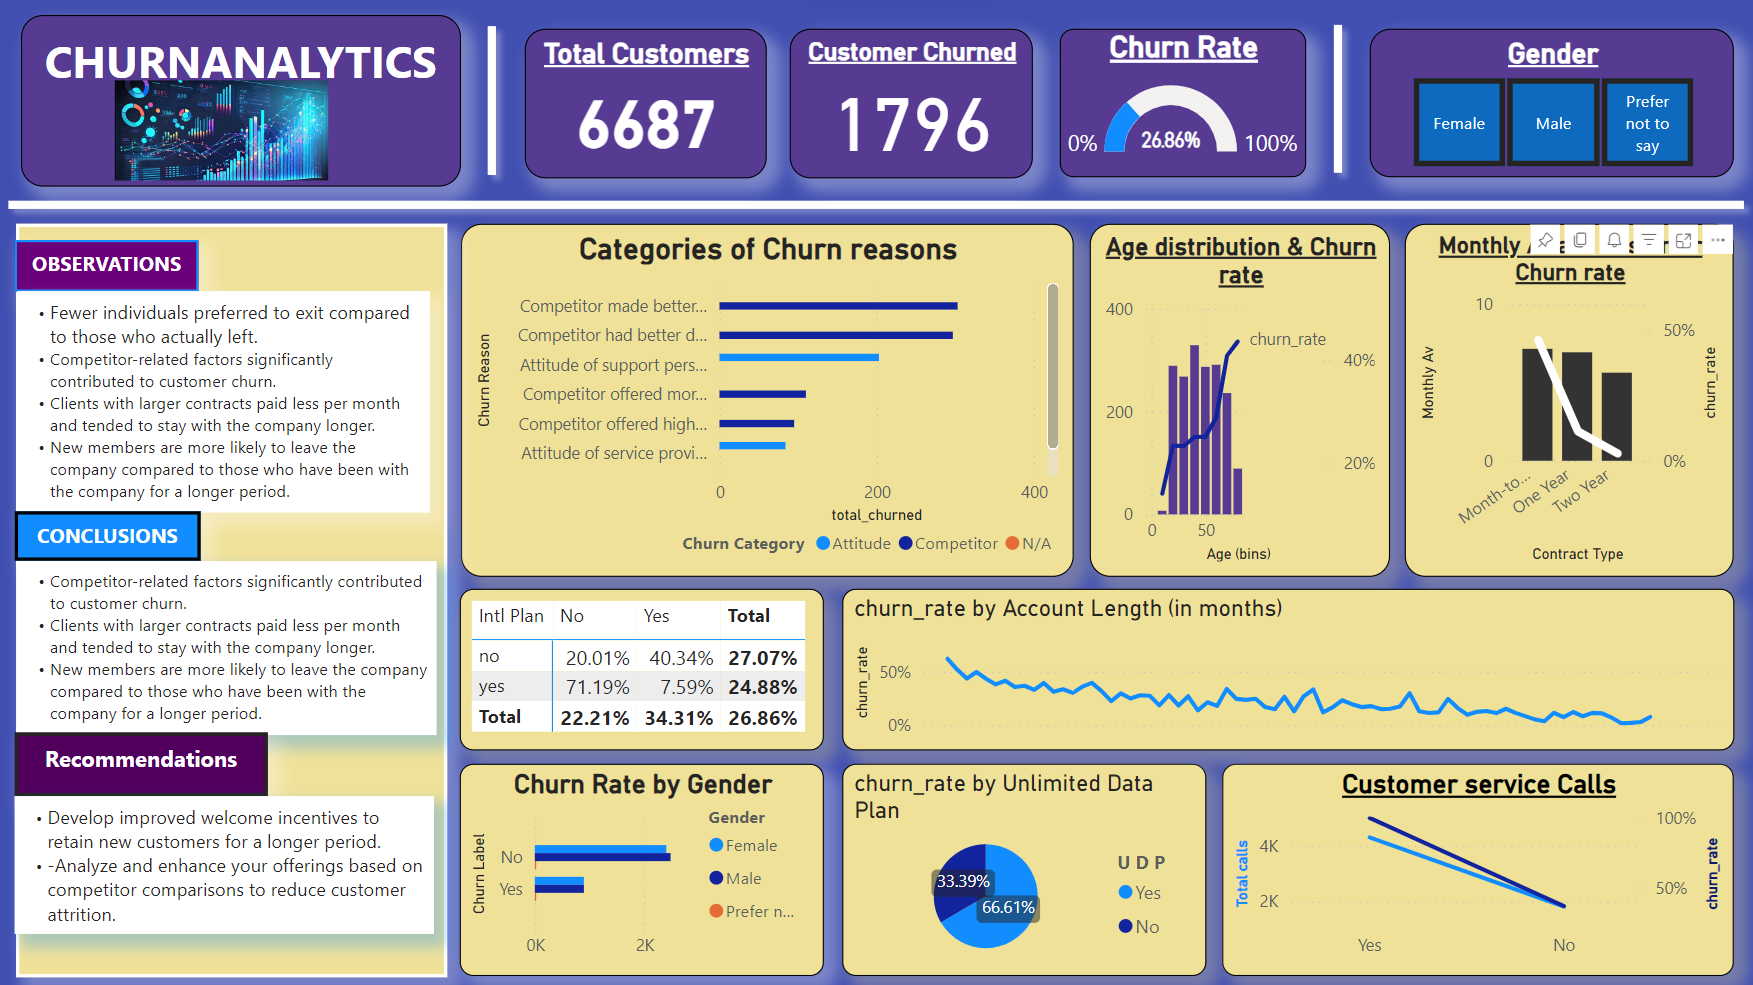

What the dashboard file says about the page in this screenshot:
{"tool":"powerbi","page":{"name":"Dashboard","canvas":[1280,720],"ordinal":1},"visuals":[{"type":"textbox","box":[17.8,11,319.7,124.9],"z":0},{"type":"shape","box":[0,74.4,1280.2,148.8],"z":1000},{"type":"shape","box":[337.6,9.6,46.7,126.2],"z":2000},{"type":"card","title":"Total Customers","fields":{"Values":["Vertex_Measures.Total_customers"]},"box":[384.2,20.6,175.6,108.4],"z":3000},{"type":"image","box":[0,53.5,328,82.3],"z":4000},{"type":"card","title":"Customer Churned","fields":{"Values":["Vertex_Measures.total_churned"]},"box":[577.7,20.6,177,108.4],"z":5000},{"type":"slicer","title":"Gender","fields":{"Values":["Table_1.Gender"]},"box":[998.8,20.9,265.1,108.1],"z":6000},{"type":"clusteredBarChart","title":"Categories of Churn reasons","fields":{"Category":["Table_1.Churn Reason"],"Y":["Vertex_Measures.total_churned"],"Series":["Table_1.Churn Category"]},"box":[338.4,162.8,445.4,257],"z":7000},{"type":"lineClusteredColumnComboChart","title":"Age distribution & Churn rate","fields":{"Category":["Table_1.Age (bins)"],"Y":["Vertex_Measures.total_churned"],"Y2":["Vertex_Measures.churn_rate"]},"box":[795.4,162.8,218.6,257],"z":8000},{"type":"lineClusteredColumnComboChart","title":"Monthly Av and Customer Churn rate","fields":{"Category":["Table_1.Contract Type"],"Y":["Avg(Table_1.Avg Monthly GB Download)"],"Y2":["Vertex_Measures.churn_rate"]},"box":[1024.4,162.8,239.5,257],"z":9000},{"type":"textbox","box":[14.5,162.9,313.7,547.7],"z":10000},{"type":"textbox","box":[14,174.4,133.7,37.2],"z":11000},{"type":"textbox","box":[15.1,211.6,300,160.5],"z":12000},{"type":"textbox","box":[14,372.1,134.9,36],"z":13000},{"type":"textbox","box":[15.1,408.1,304.7,126.7],"z":14000},{"type":"pivotTable","fields":{"Rows":["Table_1.Intl Plan"],"Values":["Vertex_Measures.churn_rate"],"Columns":["Table_1.Intl Active"]},"box":[337.2,427.9,265.1,117.4],"z":15000},{"type":"gauge","title":"Churn Rate","fields":{"Y":["Vertex_Measures.churn_rate"]},"box":[773.3,20.9,179.1,108.1],"z":16000},{"type":"clusteredBarChart","title":"Churn Rate by Gender","fields":{"Category":["Table_1.Churn Label"],"Series":["Table_1.Gender"],"Y":["Vertex_Measures.Total_customers"]},"box":[337.2,555.8,265.1,154.7],"z":17000},{"type":"shape","box":[952.3,9.3,46.5,125.6],"z":18000},{"type":"lineChart","title":"Customer service Calls","fields":{"Category":["Table_1.Churn Label"],"Y":["Sum(Table_1.Customer Service Calls)"],"Y2":["Vertex_Measures.churn_rate"]},"box":[891.9,555.8,372.1,154.7],"z":19000},{"type":"pieChart","fields":{"Category":["Table_1.Unlimited Data Plan"],"Y":["Vertex_Measures.churn_rate"]},"box":[615.1,555.8,265.1,154.7],"z":20000},{"type":"lineChart","fields":{"Category":["Table_1.Account Length (in months)"],"Y":["Vertex_Measures.churn_rate"]},"box":[615.1,427.9,648.8,117.4],"z":21000},{"type":"textbox","box":[14,532.6,183.7,46.5],"z":22000},{"type":"textbox","box":[14,579.1,304.7,100],"z":23000}]}

Visuals, with their boxes in screenshot pixels (x1, y1, x2, y2), scaled from the page's 1280x720 canvas onto the 1753x985 screenshot:
textbox: [24,15,462,186]
shape: [0,102,1752,305]
shape: [462,13,526,186]
"Total Customers" card: [526,28,767,176]
image: [0,73,449,186]
"Customer Churned" card: [791,28,1034,176]
"Gender" slicer: [1368,29,1731,176]
"Categories of Churn reasons" clusteredBarChart: [463,223,1073,574]
"Age distribution & Churn rate" lineClusteredColumnComboChart: [1089,223,1389,574]
"Monthly Av and Customer Churn rate" lineClusteredColumnComboChart: [1403,223,1731,574]
textbox: [20,223,449,972]
textbox: [19,239,202,289]
textbox: [21,289,432,509]
textbox: [19,509,204,558]
textbox: [21,558,438,732]
pivotTable - Table_1.Intl Plan x Vertex_Measures.churn_rate: [462,585,825,746]
"Churn Rate" gauge: [1059,29,1304,176]
"Churn Rate by Gender" clusteredBarChart: [462,760,825,972]
shape: [1304,13,1368,185]
"Customer service Calls" lineChart: [1221,760,1731,972]
pieChart - Table_1.Unlimited Data Plan x Vertex_Measures.churn_rate: [842,760,1205,972]
lineChart - Table_1.Account Length (in months) x Vertex_Measures.churn_rate: [842,585,1731,746]
textbox: [19,729,271,792]
textbox: [19,792,436,929]
